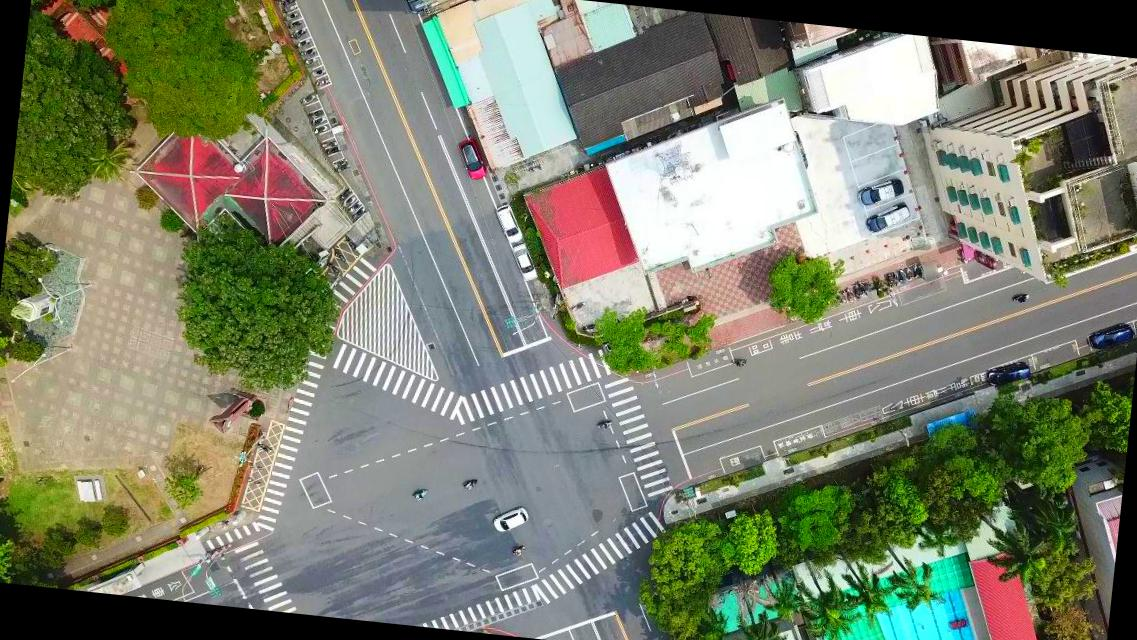vehicle: (856, 173, 905, 210), (864, 199, 911, 236), (1087, 318, 1135, 354), (985, 358, 1032, 391), (453, 140, 489, 180), (492, 203, 526, 245), (508, 242, 539, 284), (492, 504, 530, 535)
